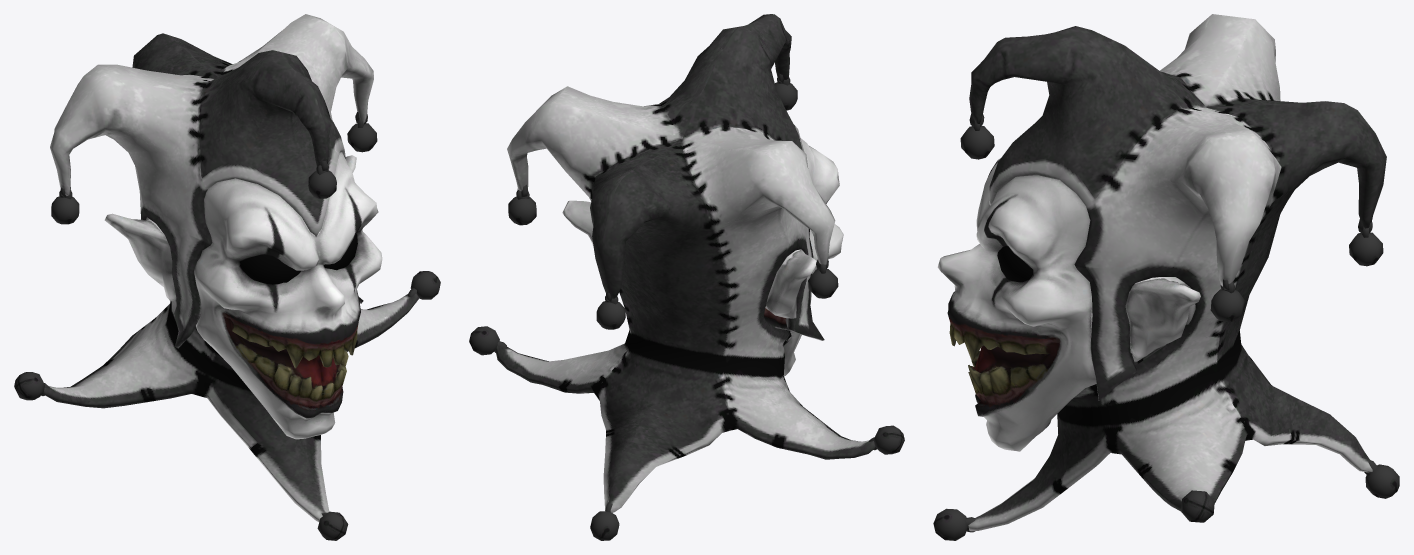
The model's file is SurvivorMale_Head_Mask_Jester_LOD0.glb.
The picture shows the model from 3 angles, left to right: view 1: azimuth 30°, elevation 25°; view 2: azimuth 150°, elevation 25°; view 3: azimuth 270°, elevation 25°; orthographic projection. The views are drawn at different scales.
Visible parts, largest first — view 1: Hoodie; view 2: Hoodie; view 3: Hoodie.
Boxes of the visible parts, left/top/right/bottom form: Hoodie: left=14, top=14, right=440, bottom=540; Hoodie: left=469, top=14, right=904, bottom=540; Hoodie: left=933, top=14, right=1399, bottom=540.
Size of the model in its own units: 0.4308 by 0.4329 by 0.3565.
1 material, 1 textured.
